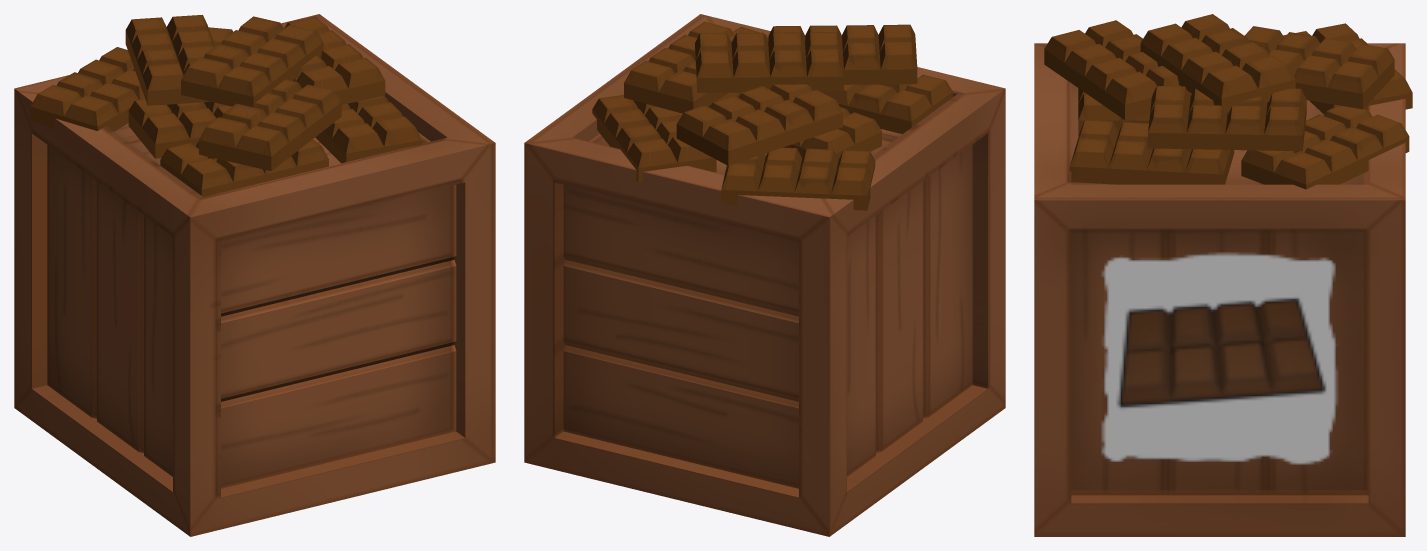
File: caixa chocolate (1).fbx
3 renders of one model, left to right at view 1: azimuth 30°, elevation 25°; view 2: azimuth 150°, elevation 25°; view 3: azimuth 270°, elevation 25°, orthographic. The views are drawn at different scales.
Parts seen in each view (by area): view 1: Caixas.005; view 2: Caixas.005; view 3: Caixas.005.
Boxes of the visible parts, box(x1,y1,x2,y2) form: Caixas.005: box(14, 14, 495, 536); Caixas.005: box(524, 14, 1005, 536); Caixas.005: box(1034, 14, 1412, 536).
Size of the model in its own units: 207 by 243 by 204.
2 materials, 2 textured.
